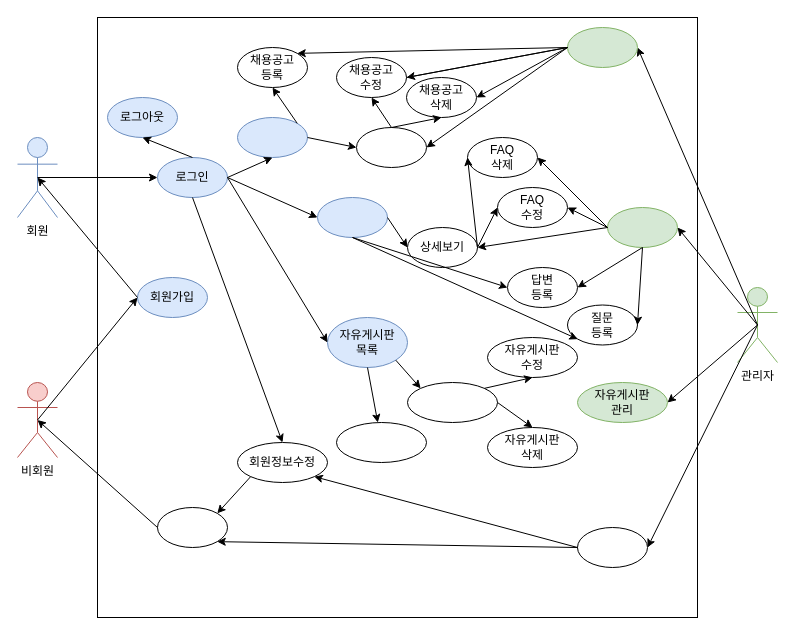
Some shapes in this 795 by 635 pixel diagram are drawn without their labels. Here are the shapes that lost their labels. From the top down, the box of each, then its label:
(566, 26, 638, 68): 채용공고 관리
(236, 116, 308, 158): 채용공고 목록
(356, 126, 426, 168): 채용공고 상세보기
(316, 196, 388, 238): FAQ 목록
(606, 206, 678, 248): FAQ 관리
(406, 382, 498, 422): 자유게시판 상세보기
(336, 422, 426, 462): 자유게시판 작성
(156, 506, 228, 548): 회원탈퇴
(576, 526, 648, 568): 회원목록
